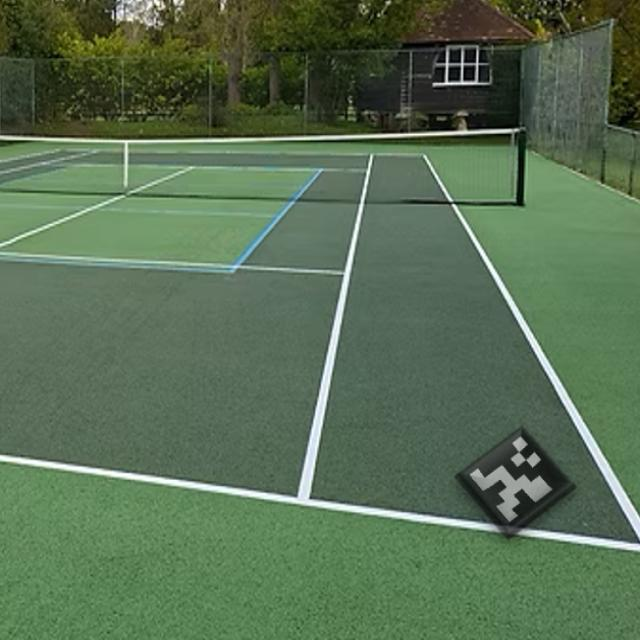marker: (450, 417, 586, 548)
